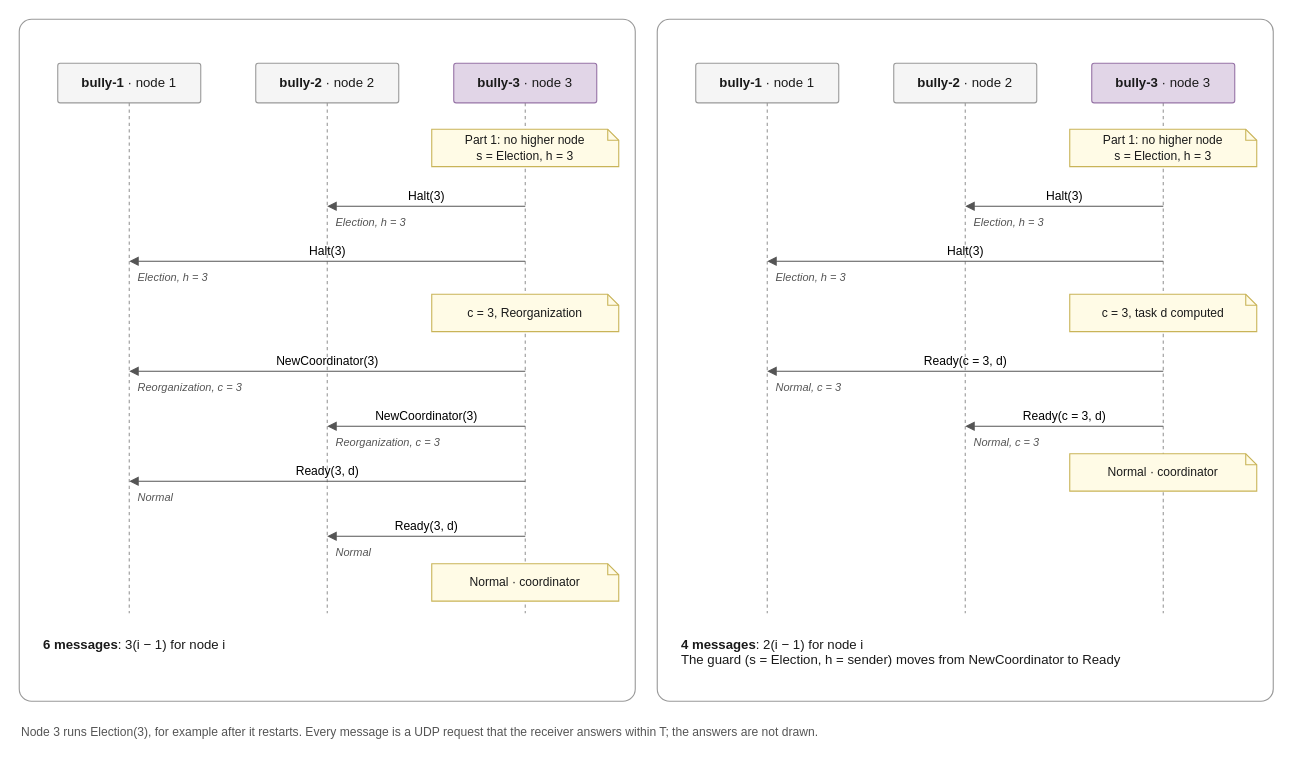
This 1293x781 diagram has some shape labels left out. The shapes that lost their labels are listed below. From the top down, each one's box as (x1, y1, x2, y2) in pixels, then its label:
(18, 18, 635, 701): Original Bully (Garcia-Molina)
(656, 18, 1273, 701): Improved variant: NewCoordinator merged into Ready
